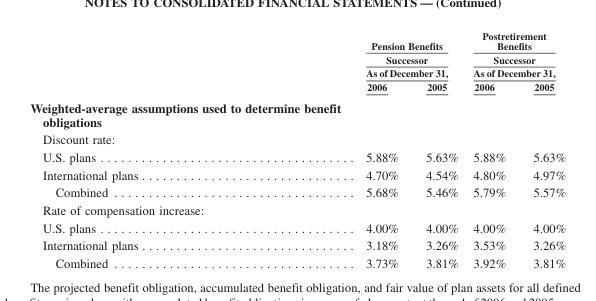table: (29, 29, 565, 269)
table column: (29, 29, 251, 269), (251, 29, 411, 269), (411, 29, 465, 269), (465, 29, 518, 269), (518, 29, 565, 269)
table column header: (29, 29, 565, 96)
table projected row header: (29, 96, 565, 130), (29, 130, 565, 147), (29, 201, 565, 218)
table row: (29, 29, 565, 79), (29, 96, 565, 130), (29, 147, 565, 165), (29, 165, 565, 183), (29, 183, 565, 201), (29, 218, 565, 236), (29, 79, 565, 96), (29, 130, 565, 147), (29, 201, 565, 218), (29, 236, 565, 253), (29, 253, 565, 269)
table spanning cell: (251, 29, 465, 79), (465, 29, 565, 79)
